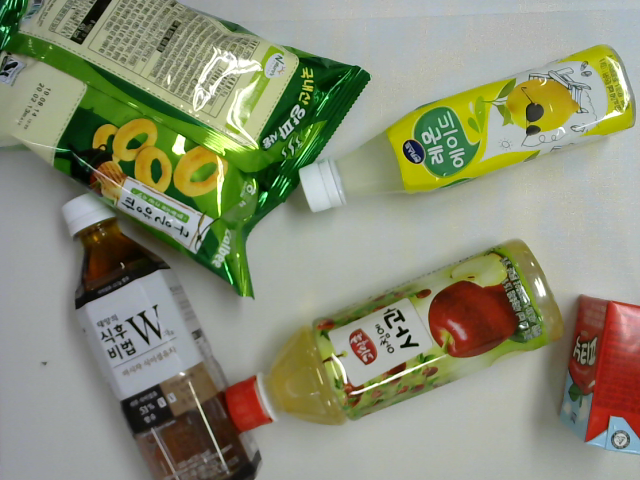Grilled_Onions: (1, 1, 378, 304)
Morning_Apple_500ml: (223, 237, 567, 432)
Picnic_Apple: (554, 294, 640, 454)
Post-meal_recipe_W_tea_500ml: (63, 188, 264, 480)
Sunkist_Lemonaid_Pet: (294, 43, 636, 215)
